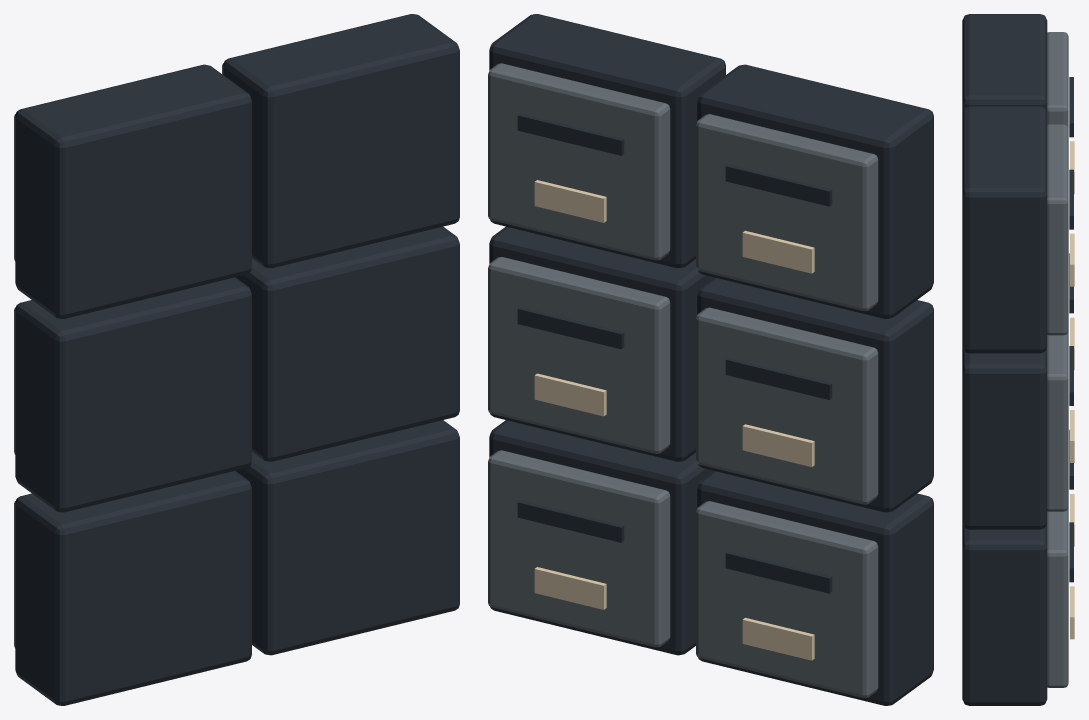
File: mailboxes.glb
3 views of the same model, side by side, from view 1: azimuth 30°, elevation 25°; view 2: azimuth 150°, elevation 25°; view 3: azimuth 270°, elevation 25° (orthographic). The views are drawn at different scales.
Parts seen in each view (by area): view 1: shell-apt-navy--1, shell-apt-metal--1; view 2: shell-apt-metal--1, shell-apt-navy--1, shell-apt-cream--1; view 3: shell-apt-navy--1, shell-apt-metal--1, shell-apt-cream--1.
Part boxes in pixels (x1,y1,x2,y2): shell-apt-navy--1: [15, 14, 459, 705]; shell-apt-metal--1: [14, 63, 223, 648]; shell-apt-metal--1: [488, 63, 878, 697]; shell-apt-navy--1: [489, 14, 933, 705]; shell-apt-cream--1: [534, 180, 814, 660]; shell-apt-navy--1: [962, 14, 1073, 705]; shell-apt-metal--1: [1047, 32, 1068, 687]; shell-apt-cream--1: [1070, 141, 1074, 639].
Bounding box in the file's own units: 0.7 × 0.94 × 0.185.
